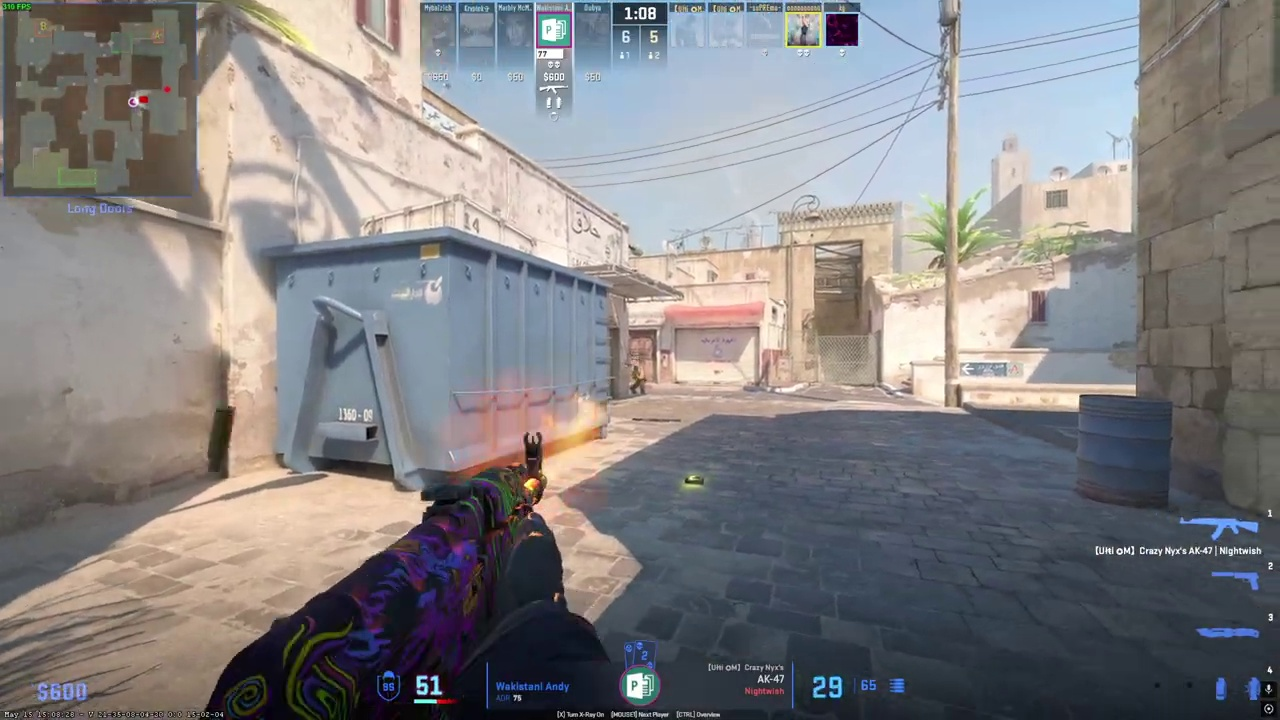Terrorist: (629, 365, 646, 395)
